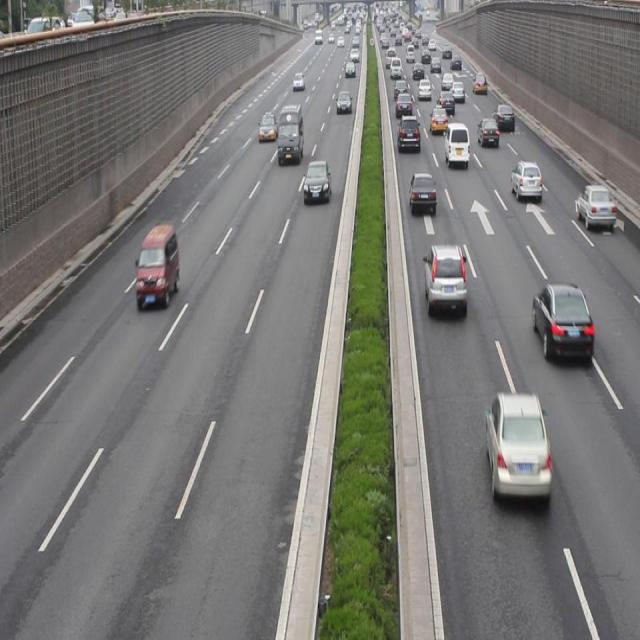car: (485, 389, 550, 505), (532, 285, 591, 359), (423, 245, 465, 317), (576, 185, 614, 229), (302, 157, 330, 202), (509, 161, 540, 200), (408, 171, 434, 213), (397, 114, 420, 153), (429, 105, 448, 136), (477, 119, 498, 145), (257, 114, 276, 141), (494, 105, 513, 131)
truck: (136, 224, 179, 308), (277, 106, 302, 161), (444, 125, 468, 167)
